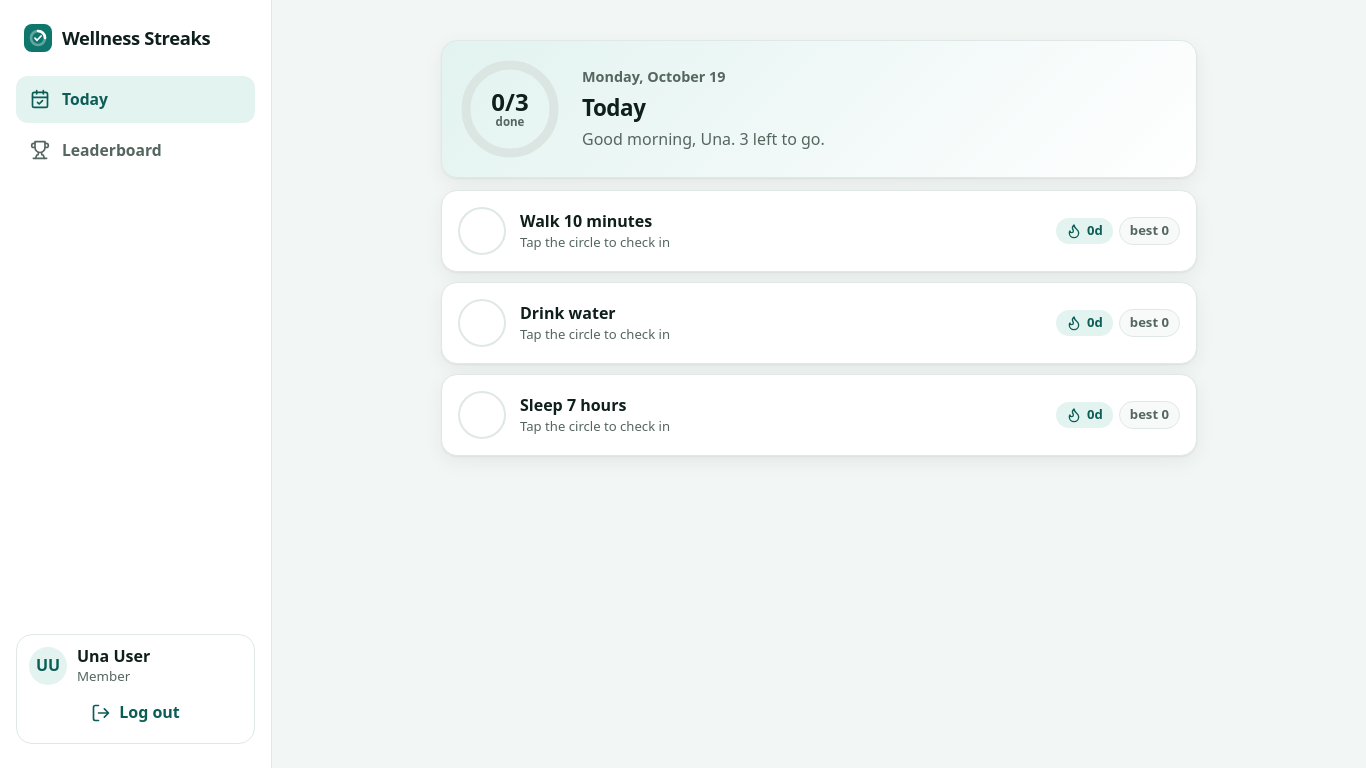
Today check-in toggle › rolls back and shows an error toast when the API fails
The width and height of the screenshot is (1366, 768).
Click the switch named "Walk 10 minutes" at x=482, y=231, box x1=458 y1=207 x2=506 y2=255
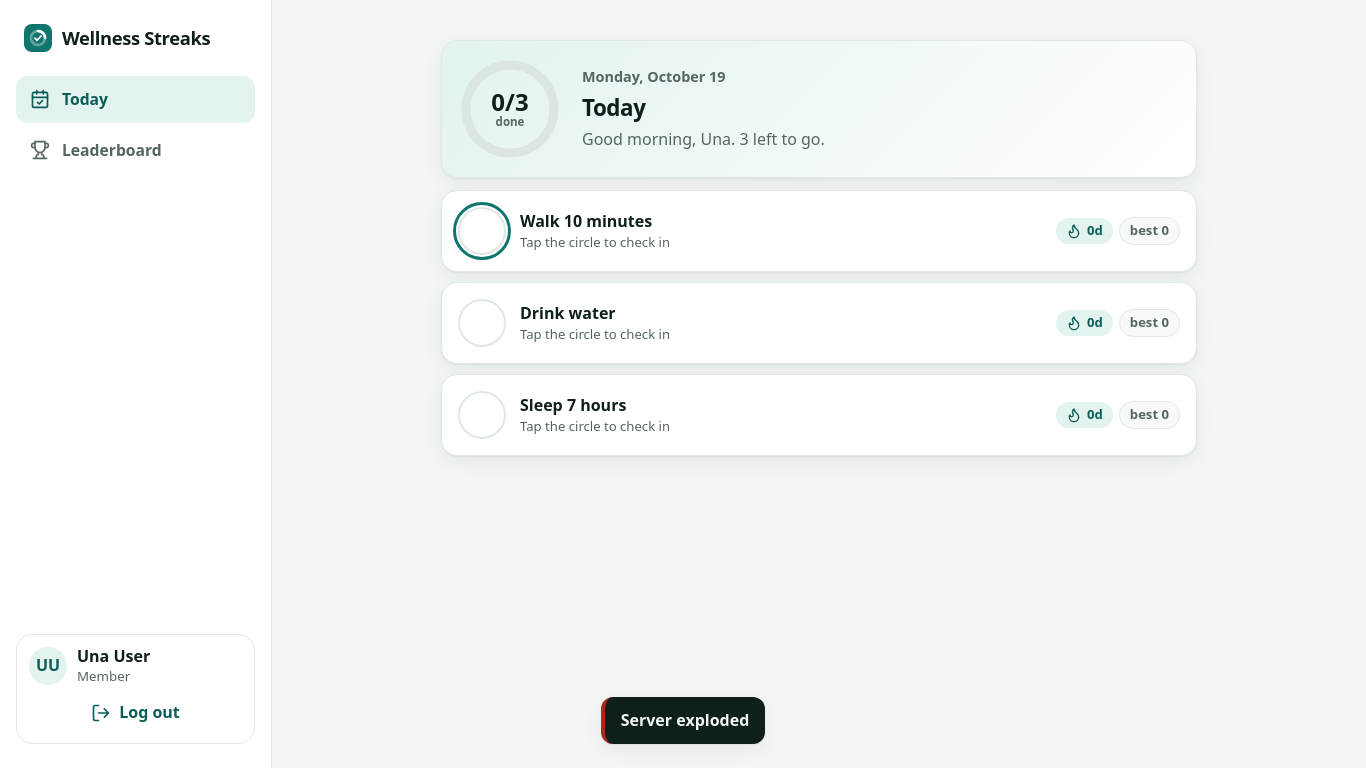
Expected: the message reads "Server exploded", x1=621 y1=709 x2=749 y2=731
